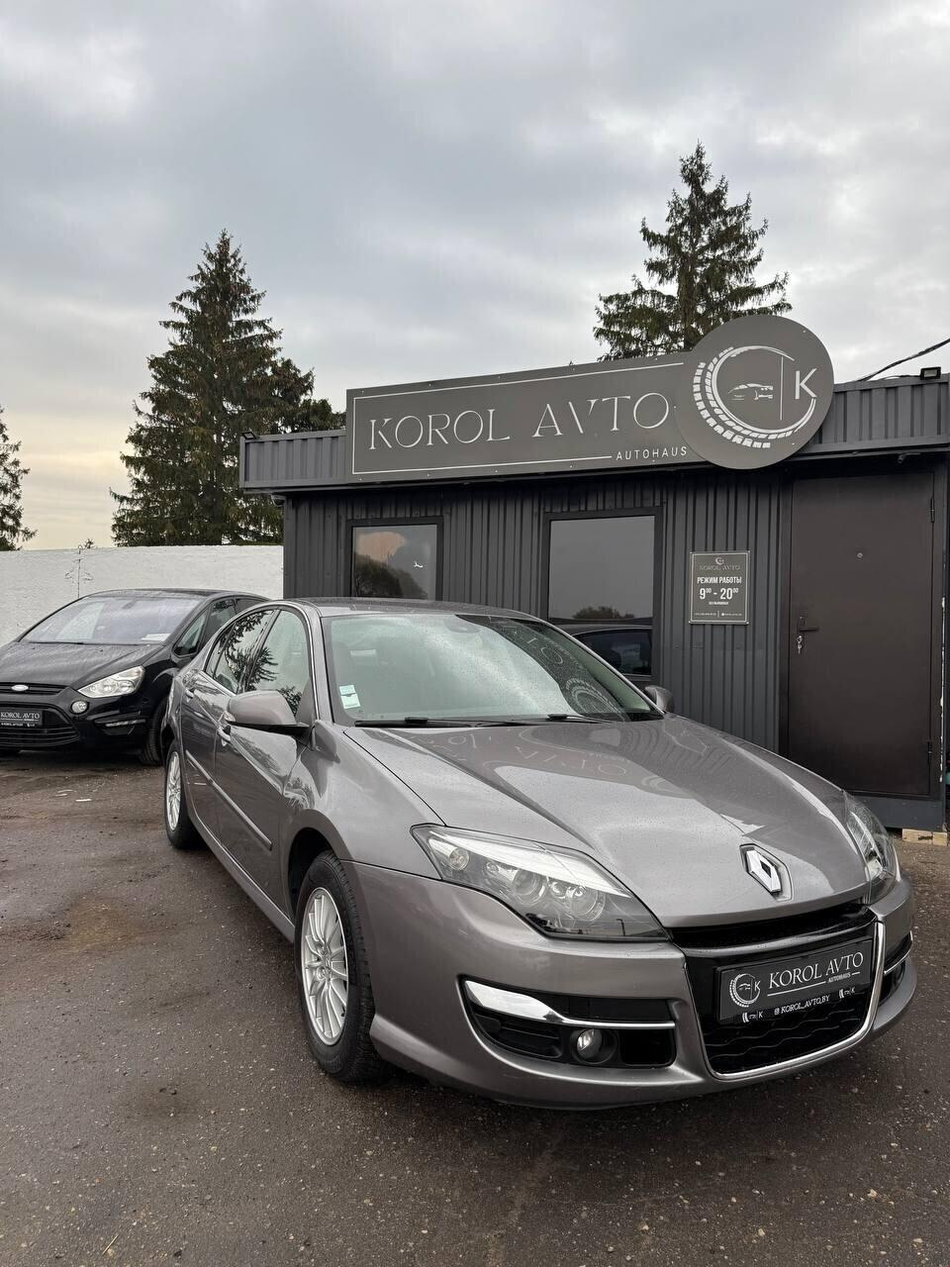Laguna_2010-2015: (158, 596, 917, 1125)
